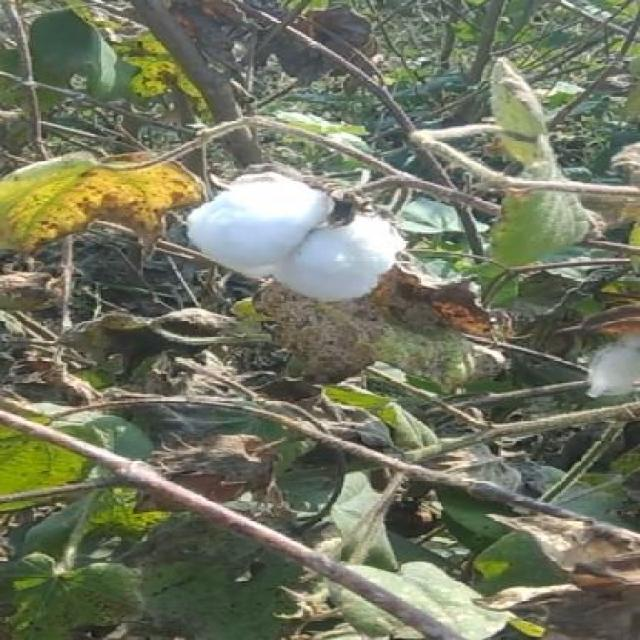cotton_ready: (125, 165, 422, 308)
